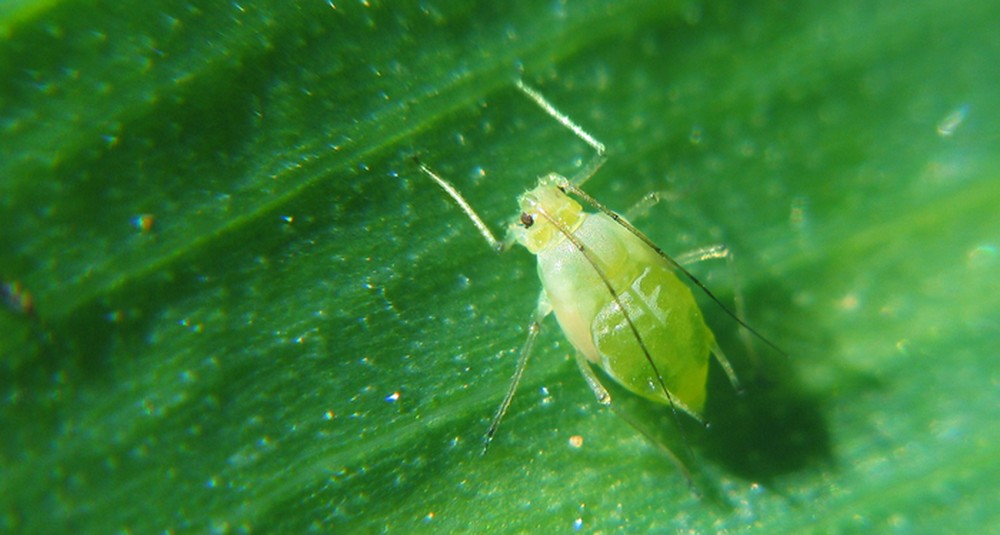Pulgon: (413, 78, 797, 472)
